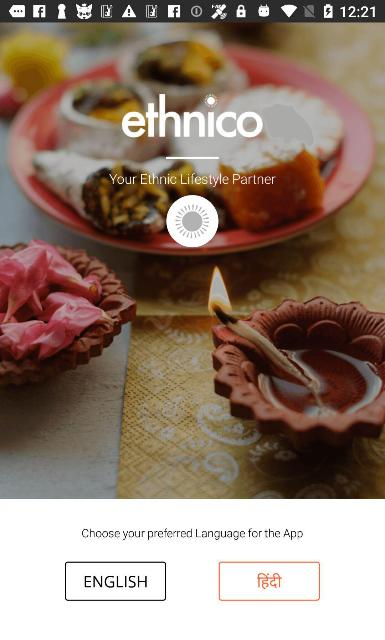Image: (0, 22, 384, 498), (122, 94, 262, 138), (166, 195, 218, 248)
Text: (82, 528, 302, 540), (109, 173, 276, 187), (85, 576, 147, 588), (258, 574, 282, 590)
TextButton: (218, 562, 320, 600), (64, 562, 166, 600)
UpperTaskBar: (0, 0, 384, 22)
